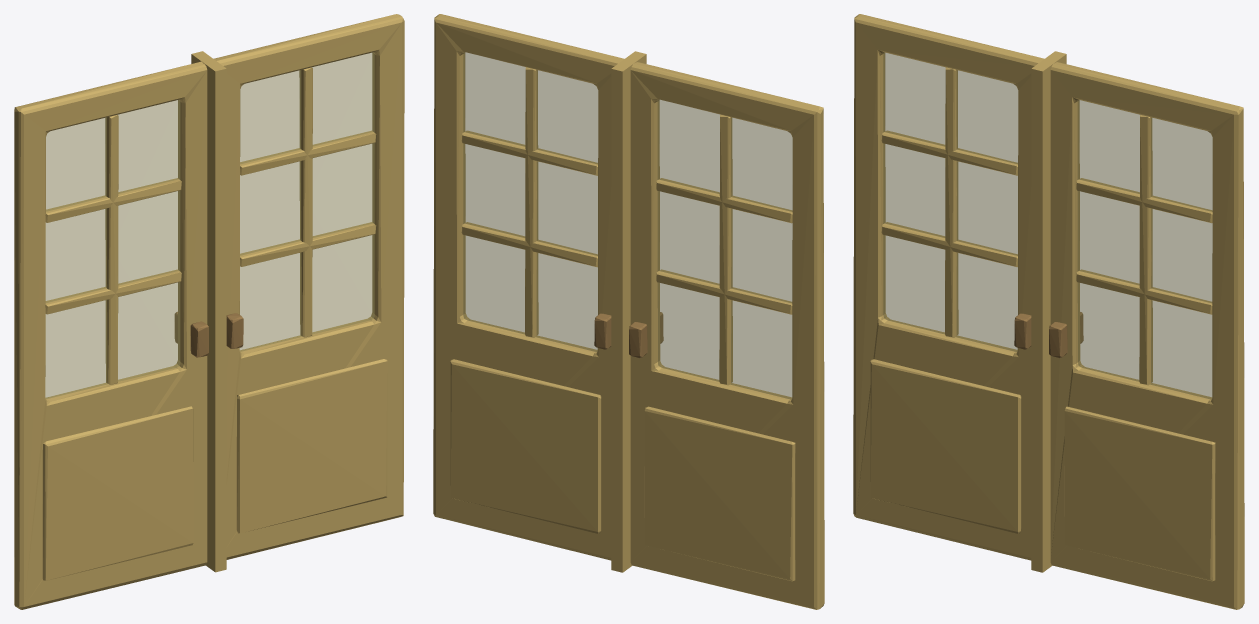
File: SM_Kit_Door2_Glass_LOD1.glb
3 views of the same model, side by side, from view 1: azimuth 30°, elevation 25°; view 2: azimuth 150°, elevation 25°; view 3: azimuth 330°, elevation 25° (orthographic).
Parts seen in each view (by area): view 1: SM_Kit_Door2_Glass_LOD1; view 2: SM_Kit_Door2_Glass_LOD1; view 3: SM_Kit_Door2_Glass_LOD1.
Boxes of the visible parts, x1,y1,x2,y2 form: SM_Kit_Door2_Glass_LOD1: (14,14,404,609); SM_Kit_Door2_Glass_LOD1: (433,14,824,609); SM_Kit_Door2_Glass_LOD1: (853,14,1244,609).
Size of the model in its own units: 1.68 by 2.08 by 0.18.
